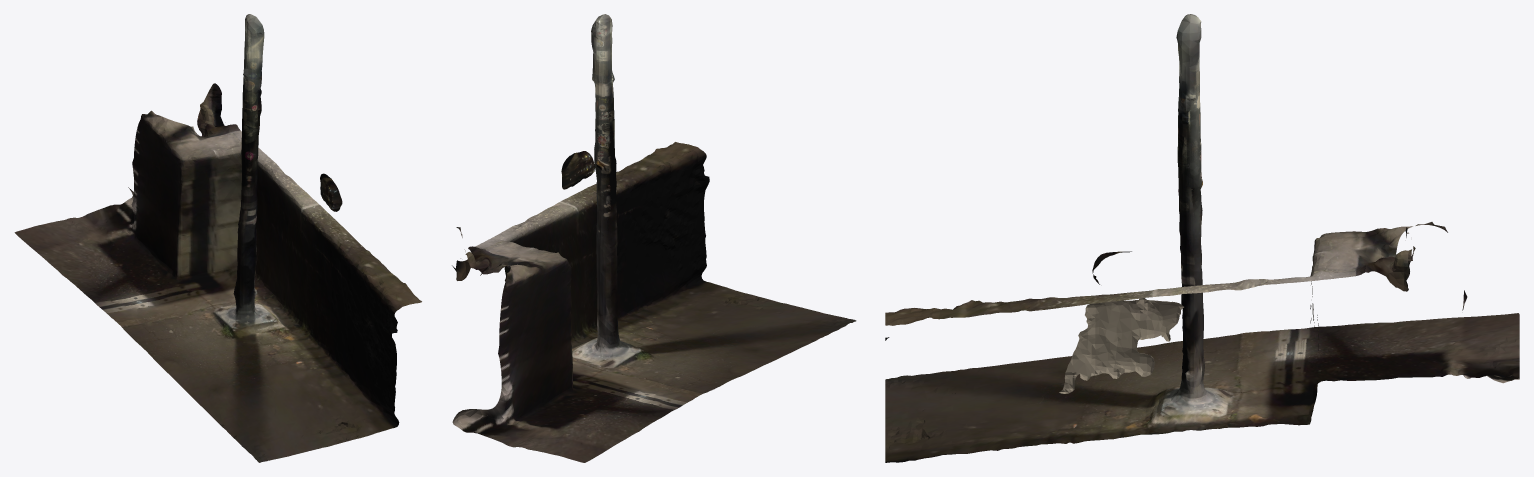
The model's file is poteau-autocollants-saint-aubain.glb.
3 views of the same model, side by side, from view 1: azimuth 30°, elevation 25°; view 2: azimuth 150°, elevation 25°; view 3: azimuth 270°, elevation 25° (orthographic). The views are drawn at different scales.
Size of the model in its own units: 1.45 by 2.86 by 3.77.
Materials: 1 (1 with a texture image).
